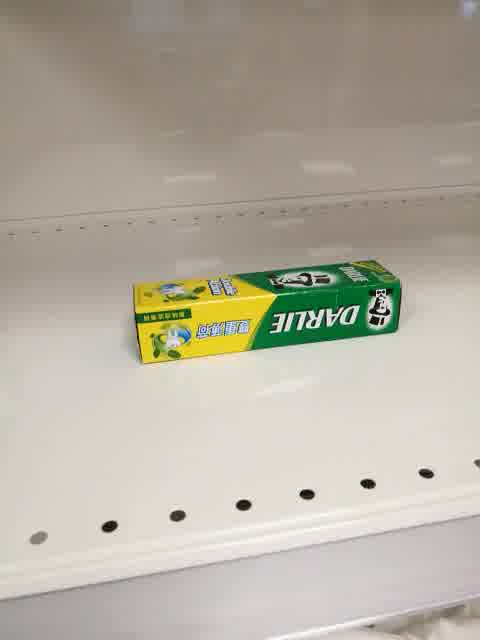toothpaste: (130, 259, 405, 365)
